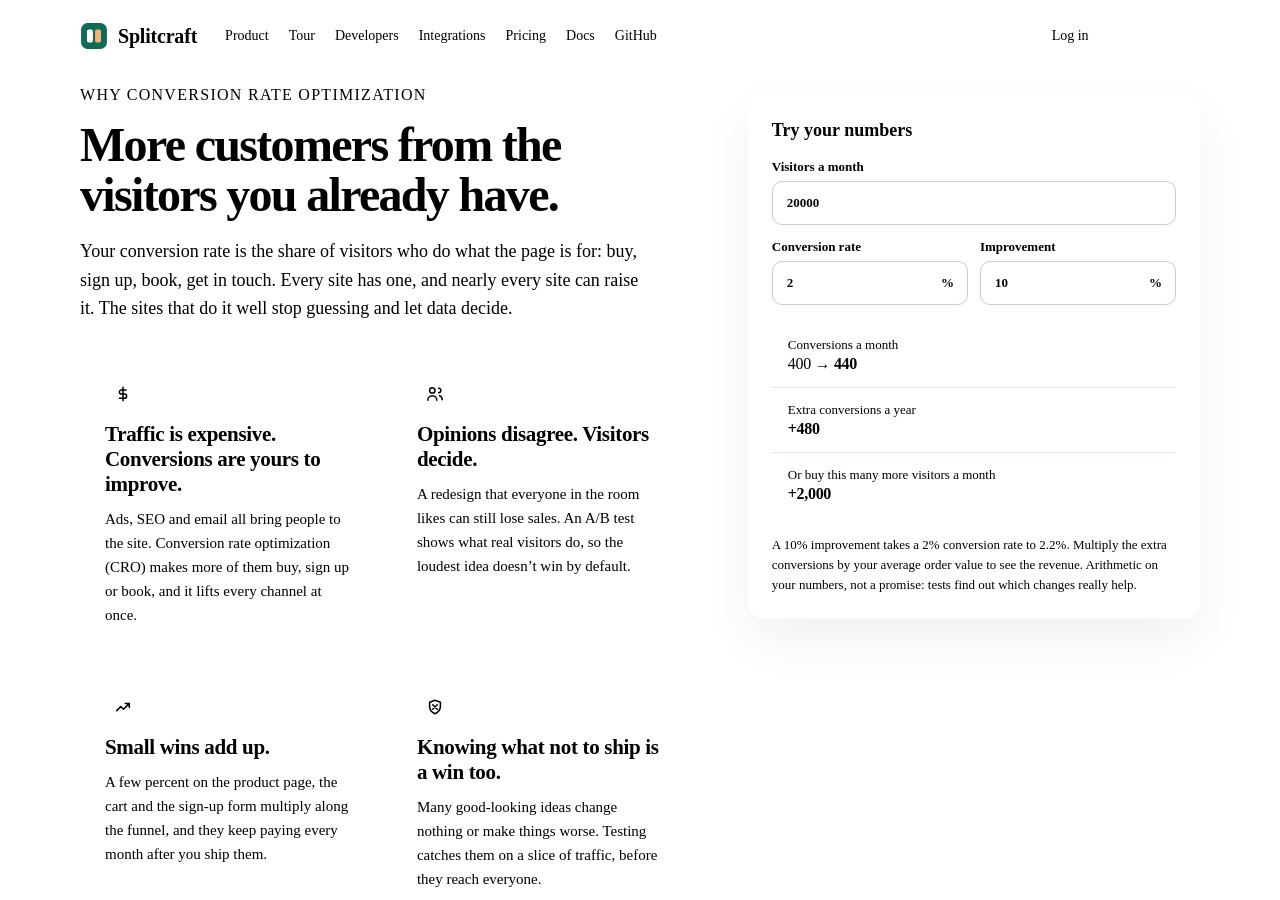
home page › explains CRO and works out what a lift is worth from the visitor’s numbers
The image size is (1280, 900).
(page scrolled)
expect the text "Conversion rate optimization (CRO)" is shown: met, box x1=105 y1=511 x2=349 y2=623
Replace the text in the field labelled "Conversion rate" with "3": (870, 283) x1=772 y1=261 x2=968 y2=305
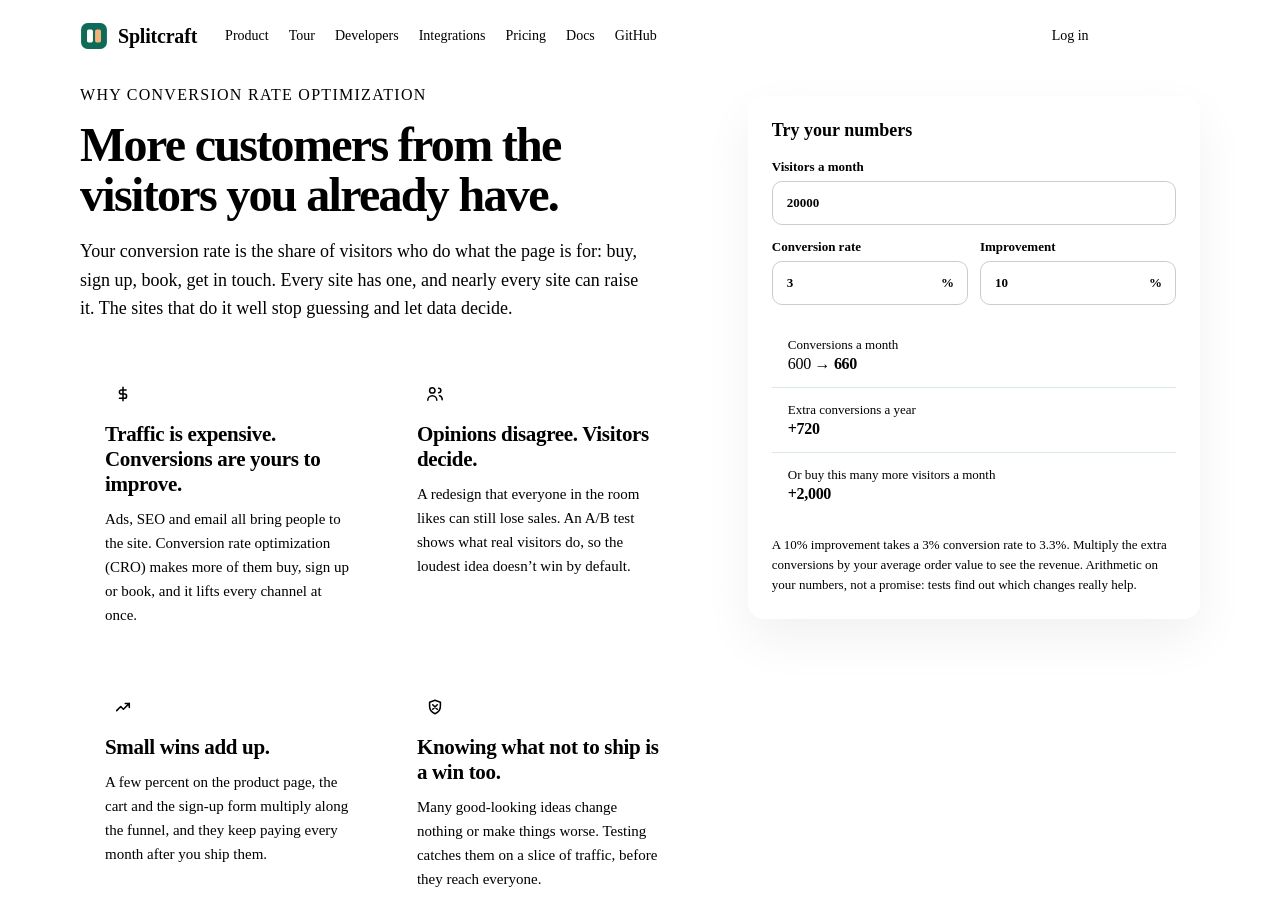
Replace the text in the field labelled "Improvement" with "20": (1078, 283) x1=980 y1=261 x2=1176 y2=305
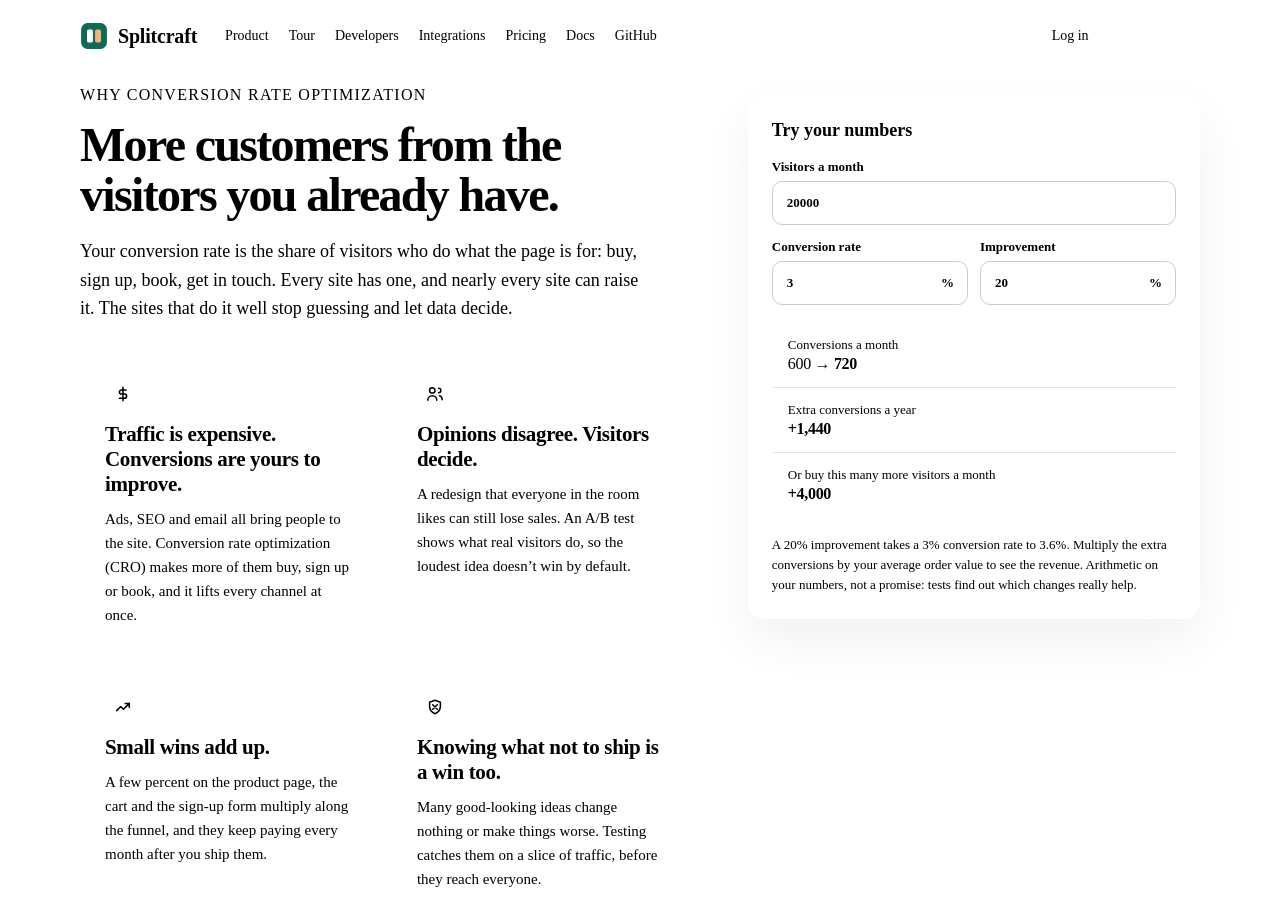
expect the text "takes a 3% conversion rate to 3.6%" is shown: met, box x1=772 y1=535 x2=1176 y2=595
